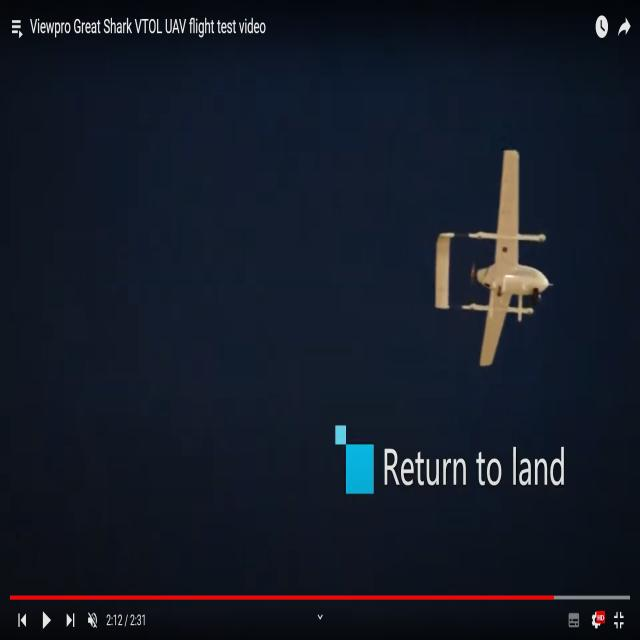iha: (465, 150, 520, 370)
